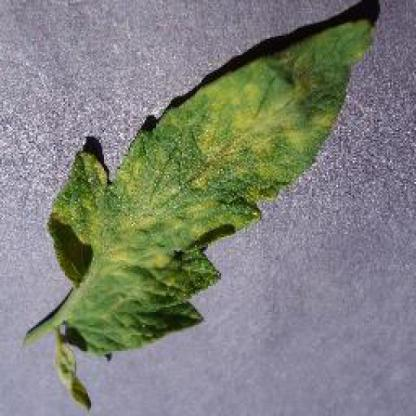Tomato_Leaf_Mold: (50, 18, 374, 353)
